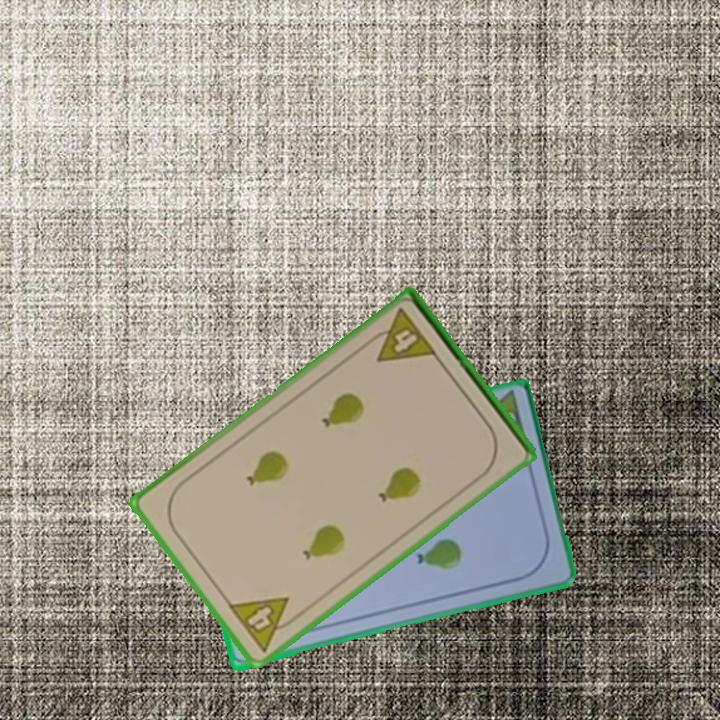4p: (224, 593, 304, 655), (362, 304, 440, 366)
